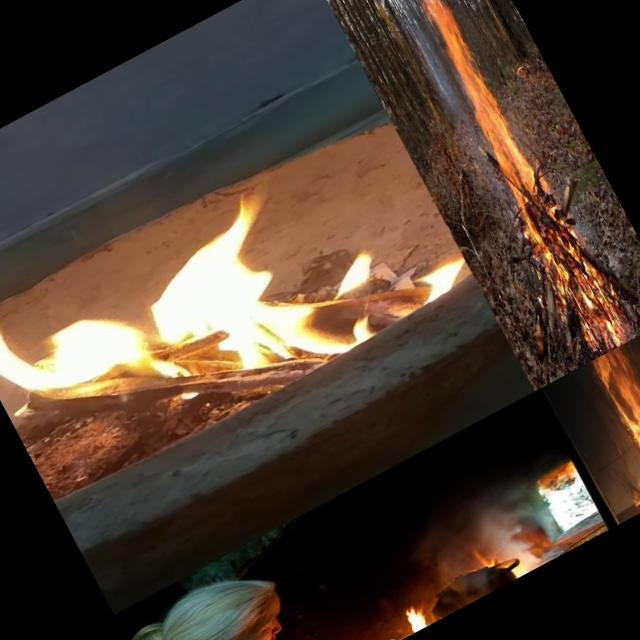fire: (0, 96, 489, 529), (401, 0, 594, 289), (588, 336, 640, 501), (387, 566, 485, 638), (467, 542, 502, 576), (626, 484, 640, 513)
smoke: (444, 468, 552, 554), (401, 517, 471, 589), (490, 522, 548, 581)
